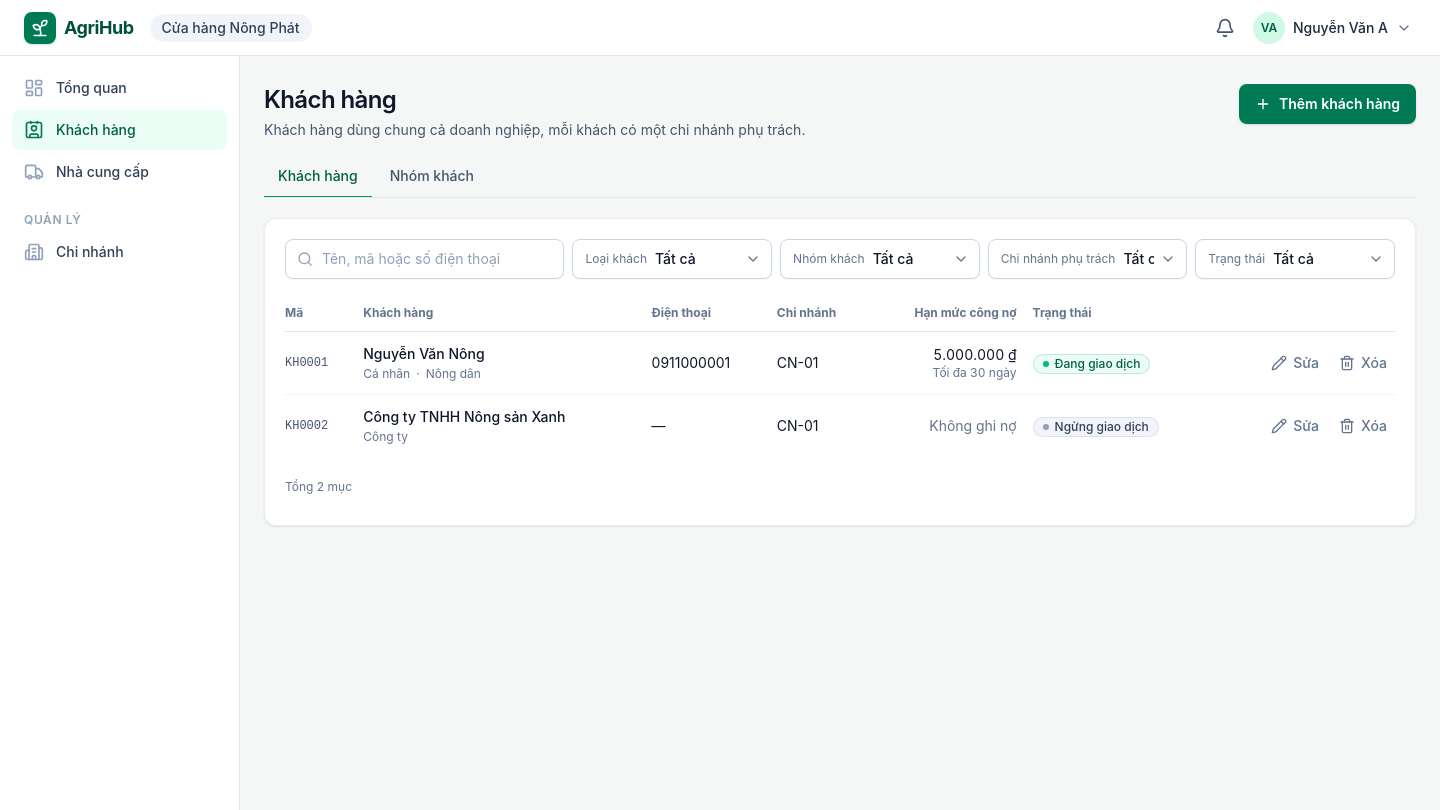
Test: danh sách khách hàng › xóa khách hàng: hỏi xác nhận, gọi API rồi lấy lại danh sách
This screenshot has width=1440, height=810.
Step 1. Click the button with aria-label "Xóa Nguyễn Văn Nông" → {"x": 1363, "y": 363}, box [1331,345,1395,381]
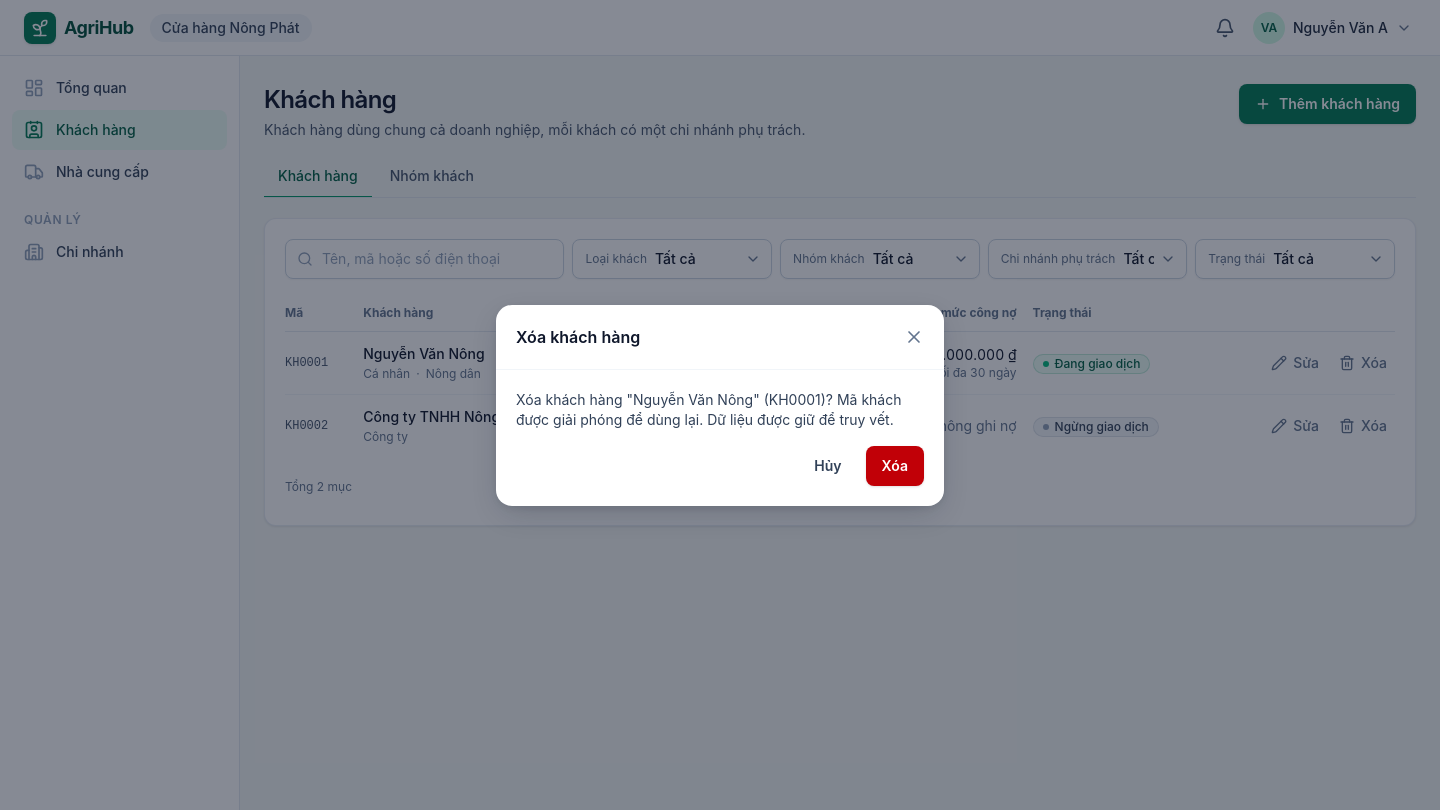
Expected: the text "KH0001" is shown, [516,390,902,428]
Step 2. Click the button "Xóa" → {"x": 895, "y": 466}, box [866,446,924,486]
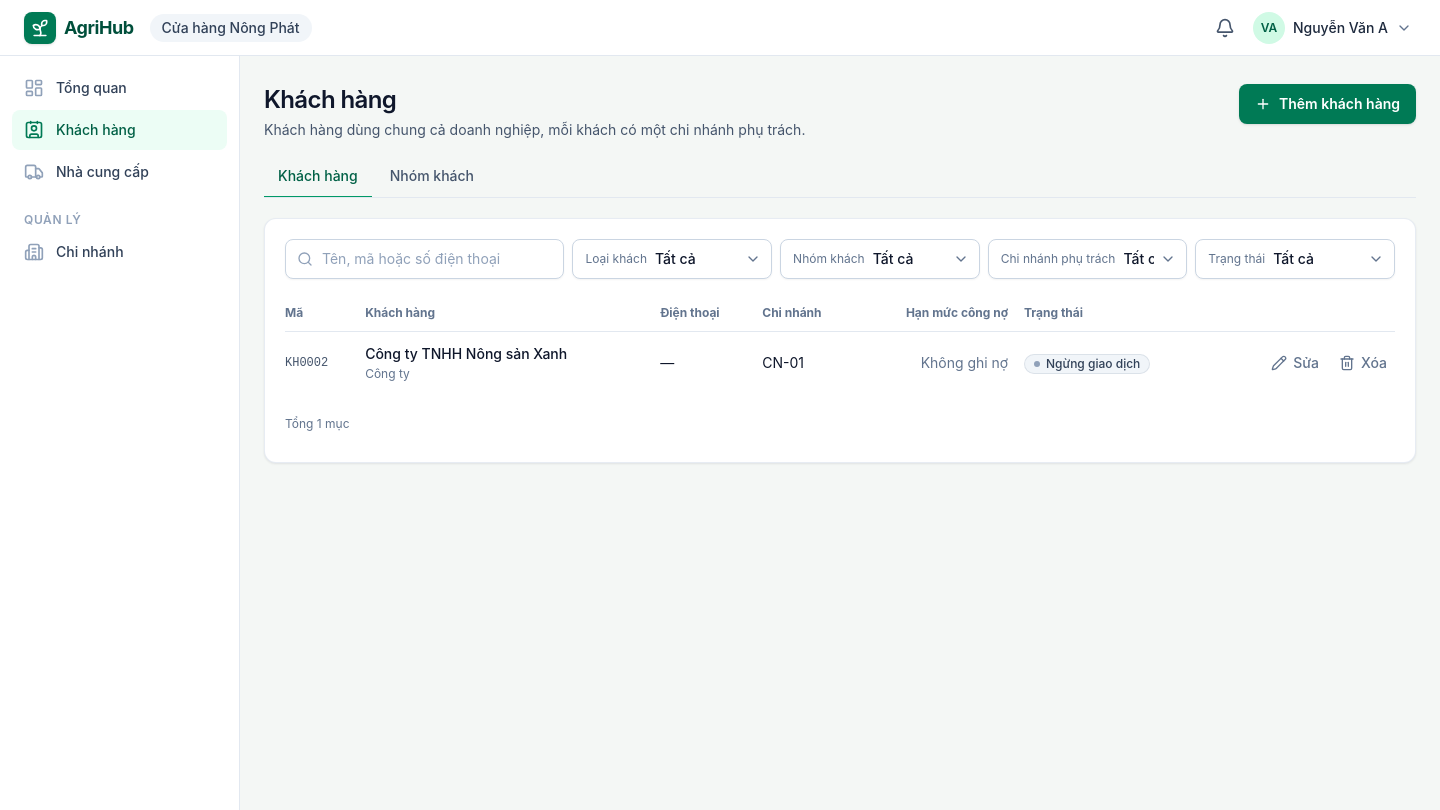
Expected: the link "Nguyễn Văn Nông" is gone
